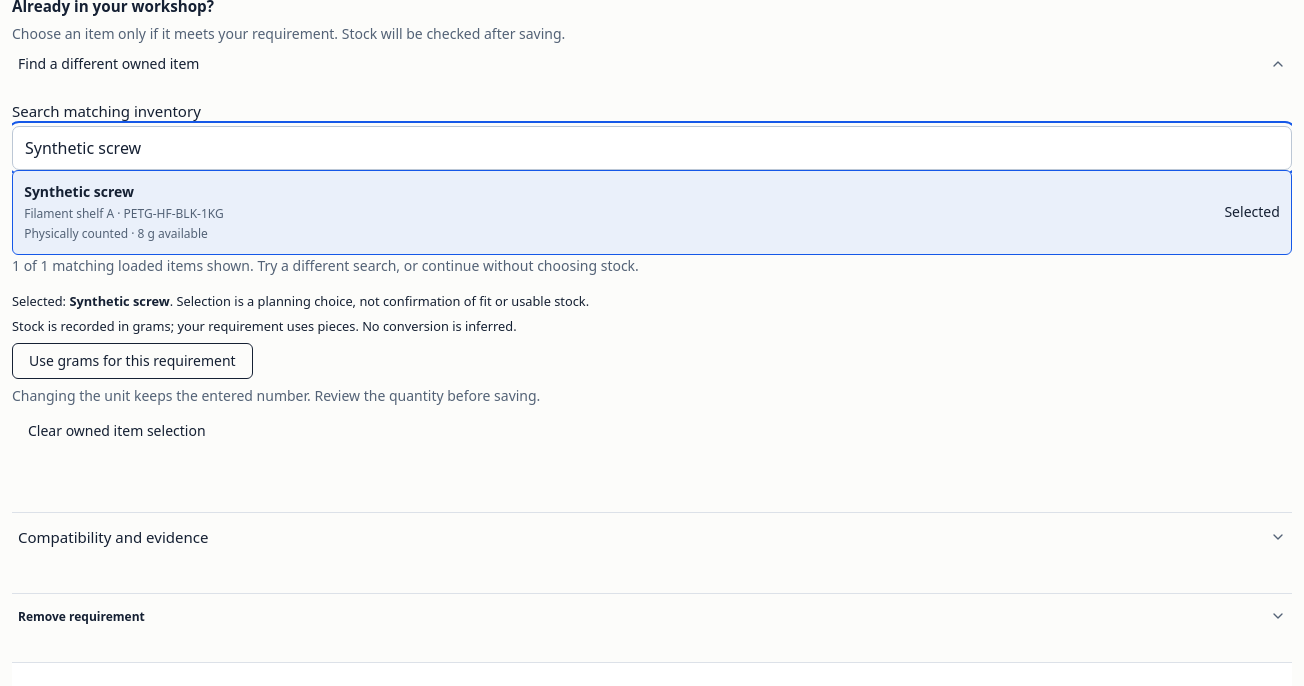
Test case: updates the stock-mode summary when a different requirement unit is explicitly chosen
This screenshot has width=1304, height=686.
(page scrolled)
What coordinates should you click on to do the following:
click the button "Use grams for this requirement"
I would click on:
 (132, 361)
Its box is [12,343,253,379].
(page scrolled)
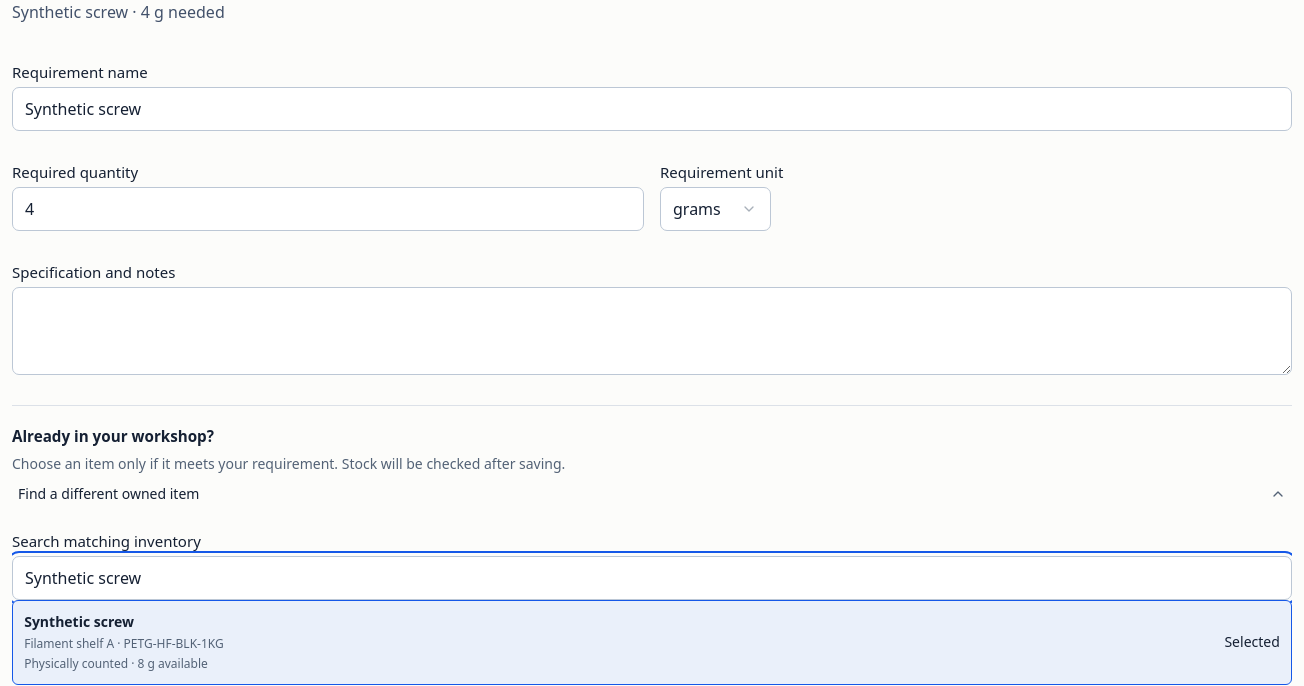
Check: the text "Synthetic screw · 4 g needed" is shown, box [12,1,225,23]
